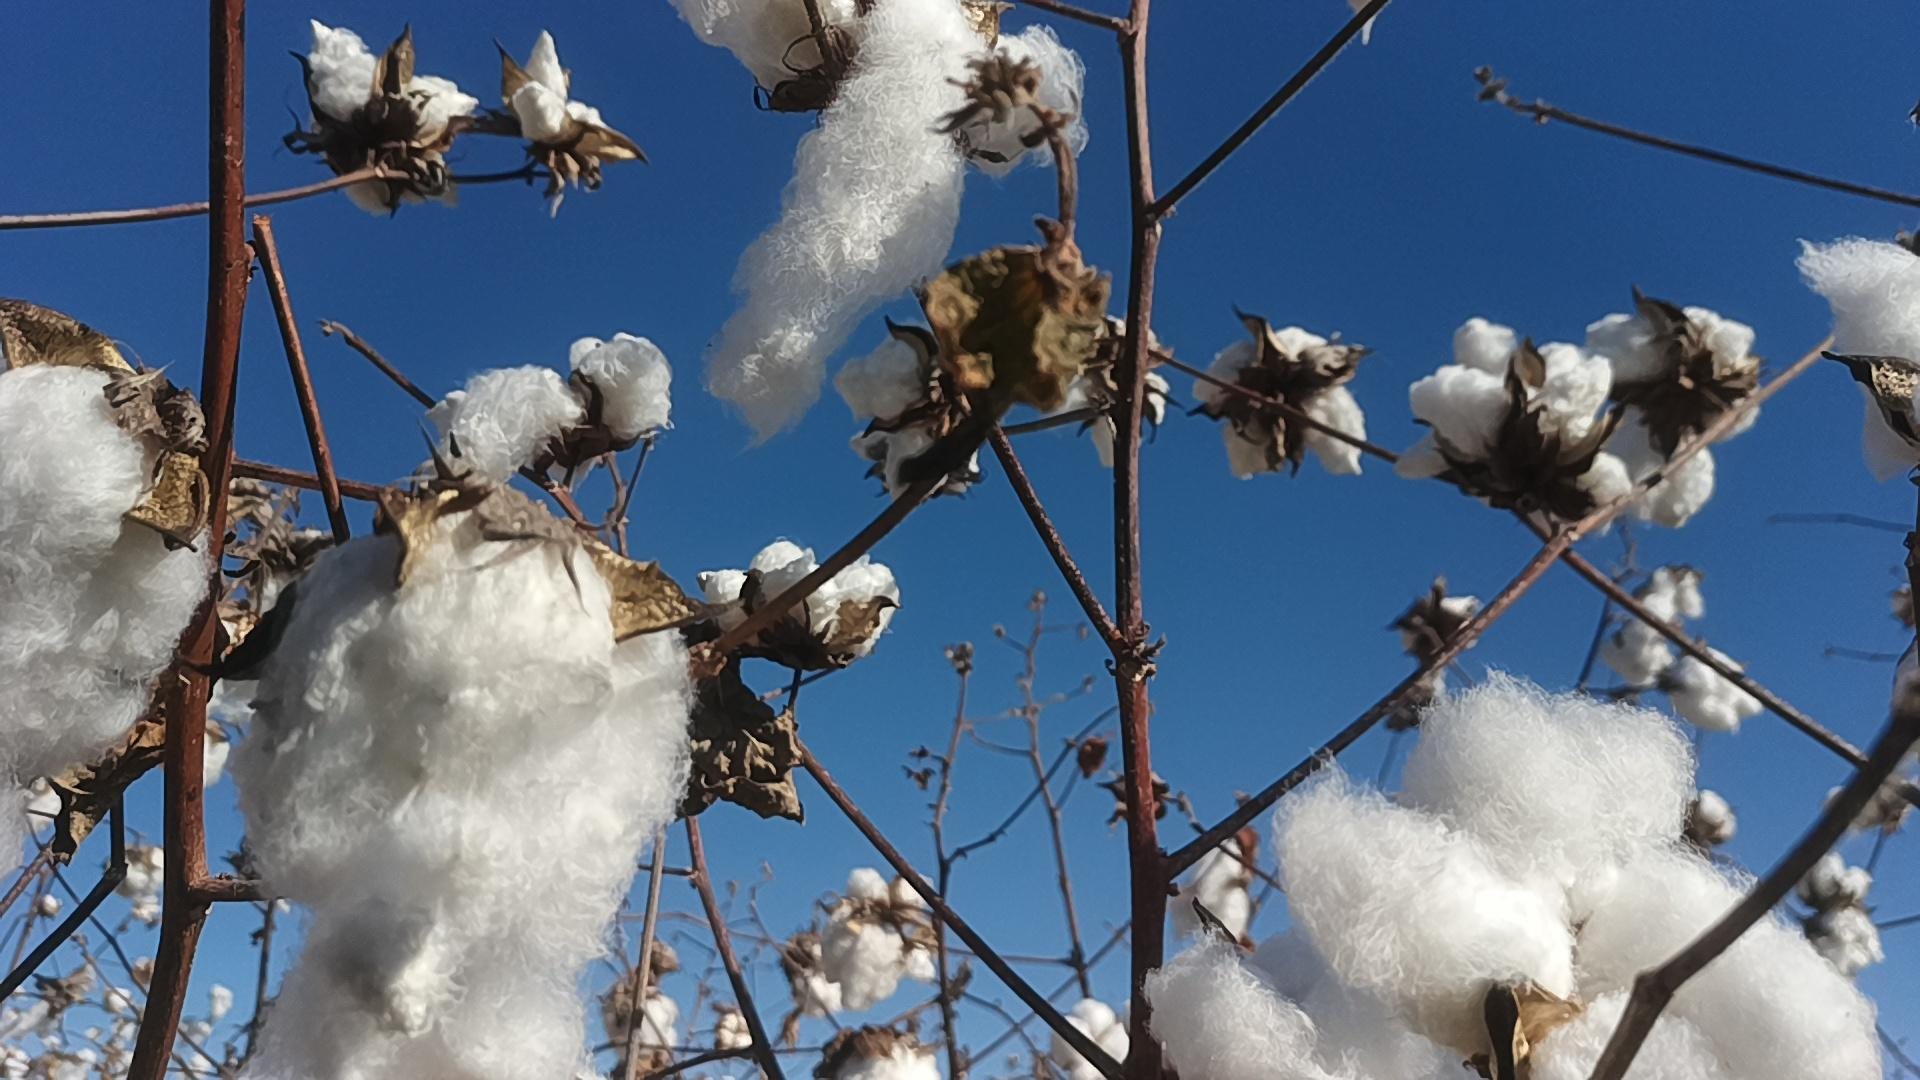cotton_ready: (1138, 675, 1693, 1080), (233, 510, 694, 952), (703, 0, 986, 446), (0, 360, 214, 769), (1542, 845, 1880, 1080), (236, 909, 591, 1080), (1394, 316, 1630, 508), (1585, 313, 1763, 518), (431, 334, 673, 485), (1797, 240, 1920, 477), (1189, 323, 1364, 476), (698, 539, 898, 655), (306, 24, 485, 153), (1056, 315, 1168, 468), (976, 28, 1096, 170), (818, 870, 940, 1005), (675, 0, 858, 75), (833, 319, 952, 426), (510, 32, 611, 153), (828, 1035, 935, 1080)
